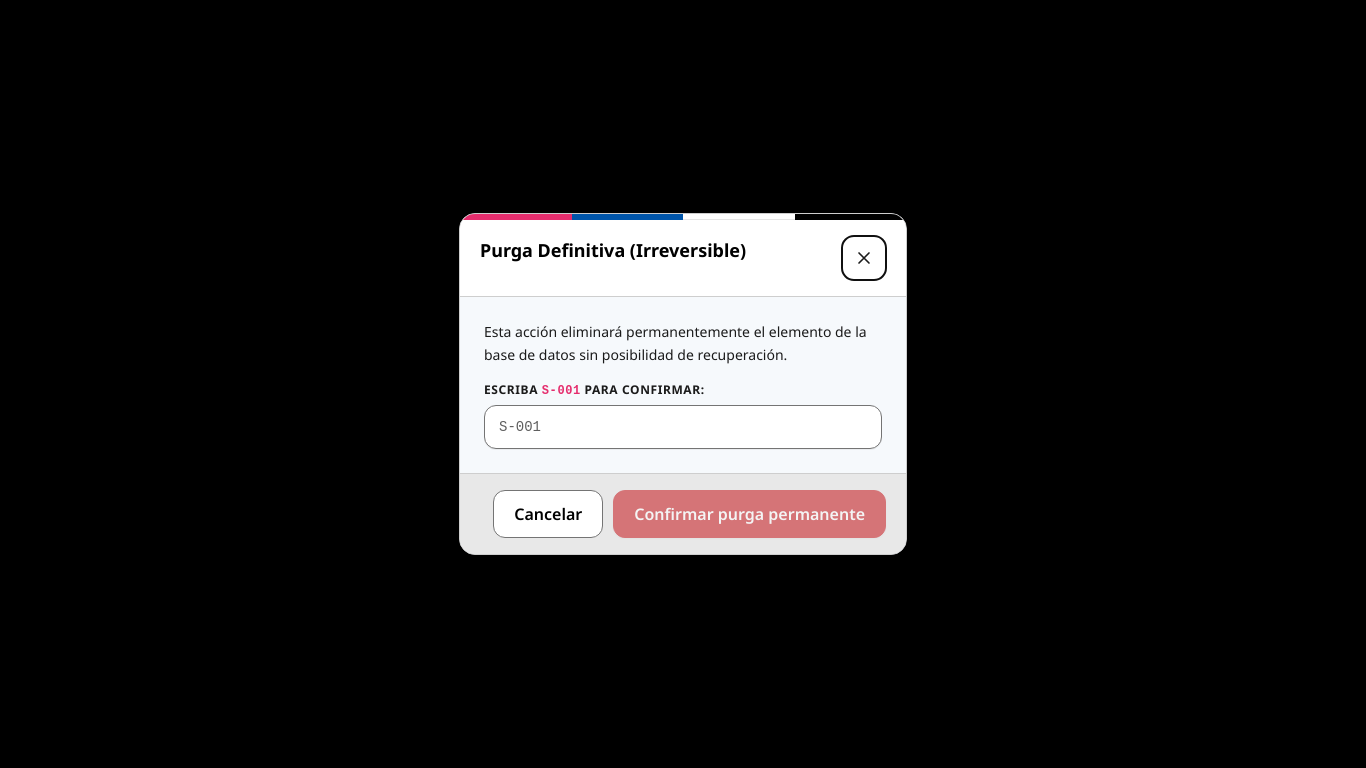
ConfirmarPorCodigo › renderiza con botón de confirmación deshabilitado hasta tipear el código exacto
Later steps or results of the test are not shown.
Expected: the button "Confirmar purga permanente" is disabled, [613,490,886,538]
Type "S-002" into the field.
click(683, 427); type("S-002")  # box [484,405,882,449]
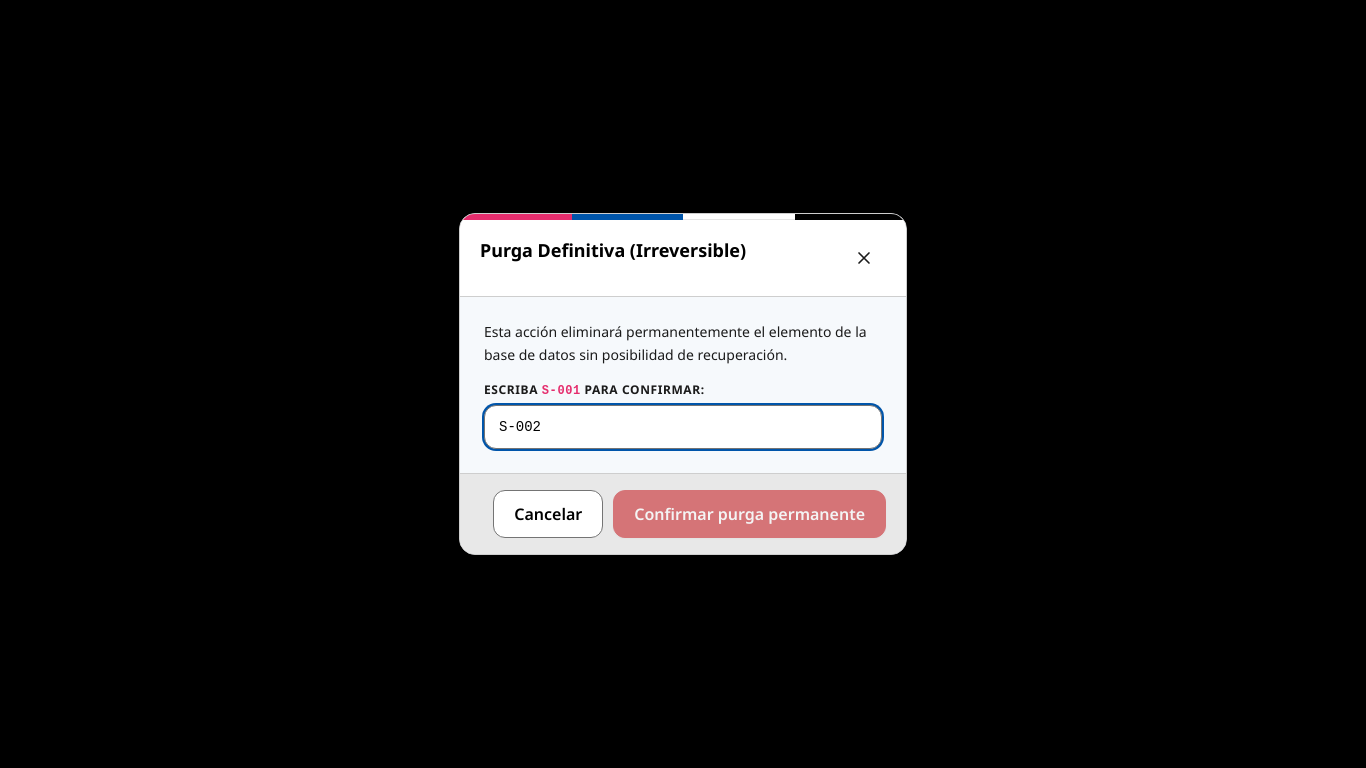
Expected: the button "Confirmar purga permanente" is disabled, [613,490,886,538]
Replace the text in the field with "S-001" at (683, 427), box [484,405,882,449]
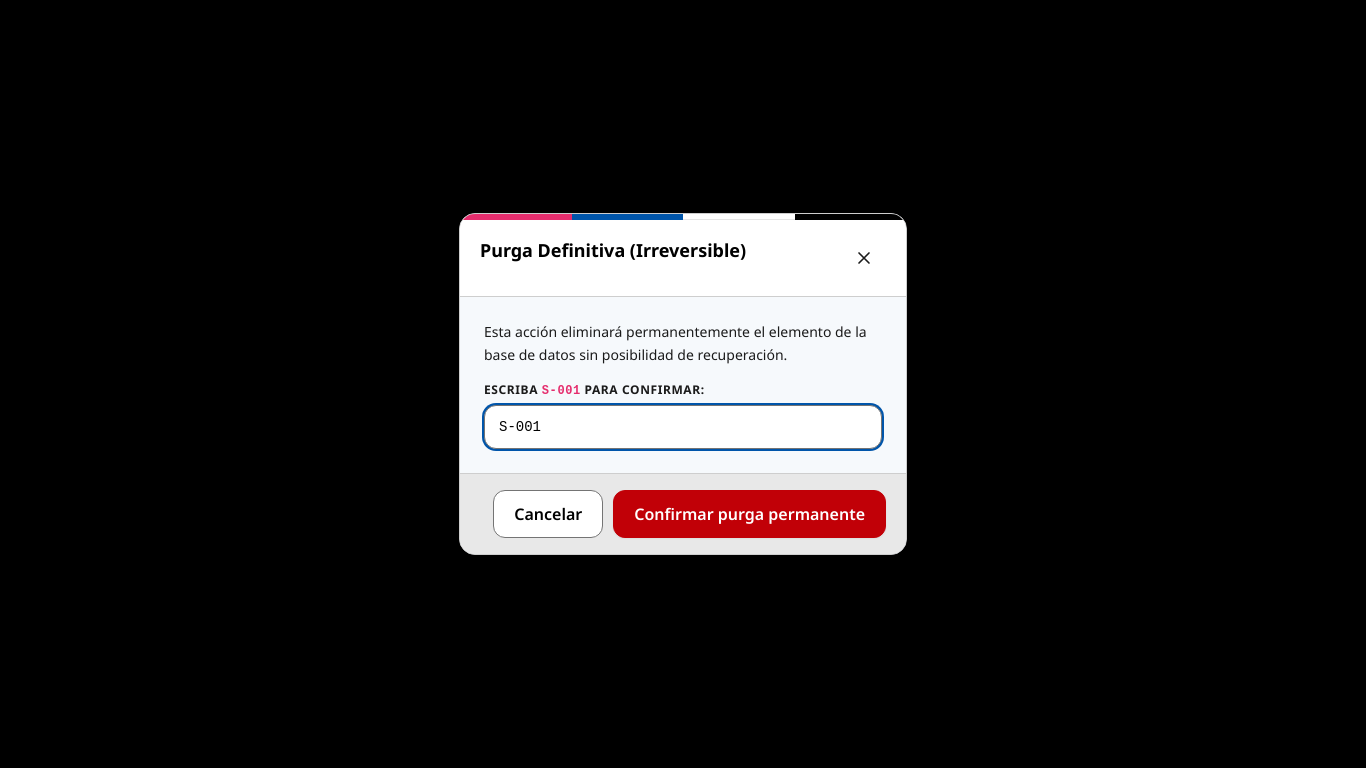
Expected: the button "Confirmar purga permanente" is enabled, [613,490,886,538]
